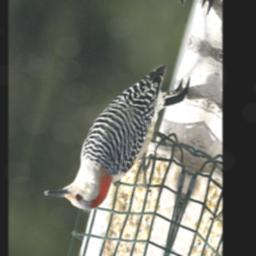Woodpecker: (43, 29, 192, 241)
